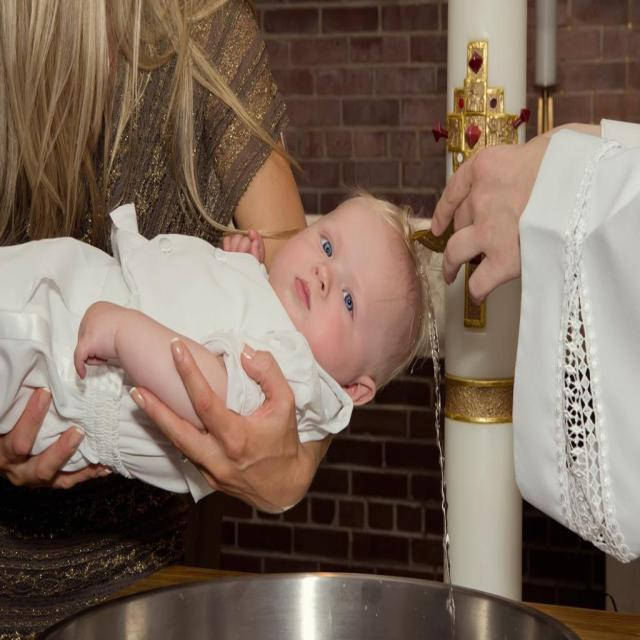Face: (273, 191, 427, 388)
